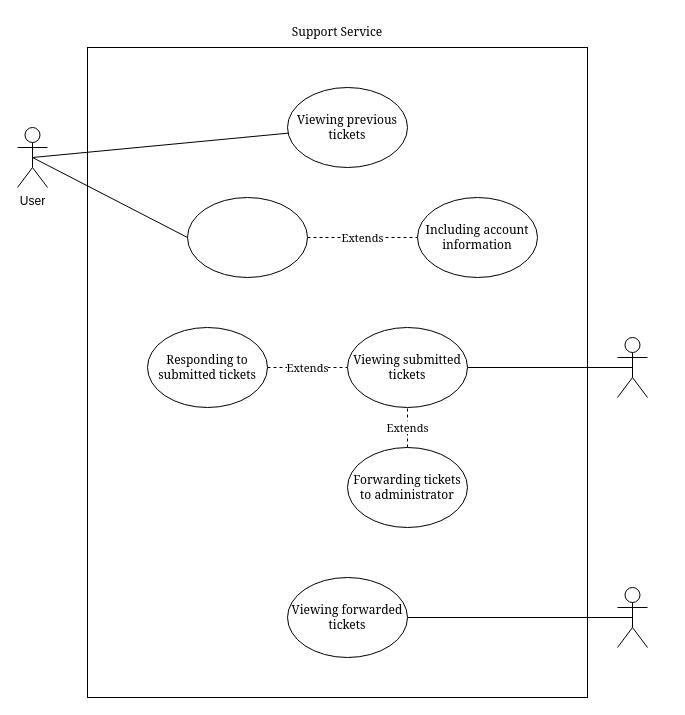
Some shapes in this 685 by 715 pixel diagram are drawn without their labels. The centre of each missing label's shape, as x and y in pixels:
"Administrator" goes at (632,617).
"Submitting a new ticket" goes at (247,237).
"Support" goes at (632,367).
